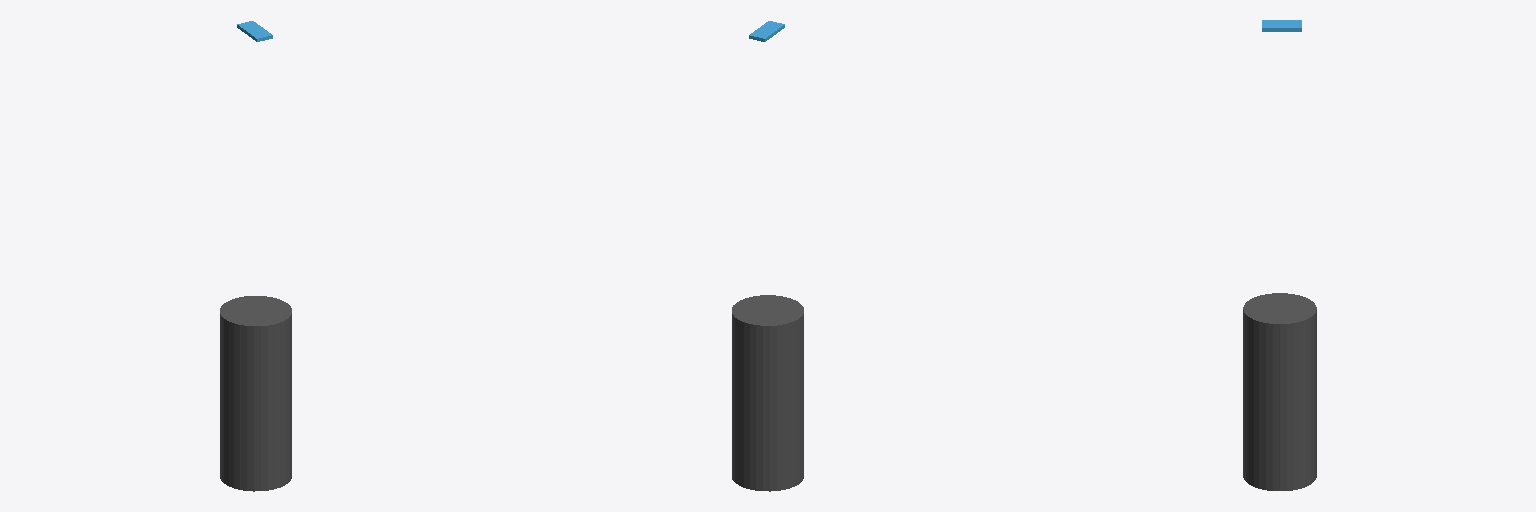
robot.urdf — lwa4p:
<?xml version="1.0" ?>
<!-- =================================================================================== -->
<!-- |    This document was autogenerated by xacro from schunk_lwa4p.urdf.xacro        | -->
<!-- |    EDITING THIS FILE BY HAND IS NOT RECOMMENDED                                 | -->
<!-- =================================================================================== -->
<!--
<robot xmlns:sensor="http://playerstage.sourceforge.net/gazebo/xmlschema/#sensor"
       xmlns:controller="http://playerstage.sourceforge.net/gazebo/xmlschema/#controller"
       xmlns:interface="http://playerstage.sourceforge.net/gazebo/xmlschema/#interface"
       xmlns:xacro="http://playerstage.sourceforge.net/gazebo/xmlschema/#interface"
       name="lwa4p" >
       -->
<robot name="lwa4p" xmlns:xacro="http://www.ros.org/wiki/xacro">
  <!-- common stuff -->
  <!-- see https://secure.wikimedia.org/wikipedia/en/wiki/List_of_moment_of_inertia_tensors -->
  <material name="Schunk/LightGrey">
    <color rgba="0.7 0.7 0.7 1.0"/>
  </material>
  <material name="Schunk/DarkGrey">
    <color rgba="0.4 0.4 0.4 1.0"/>
  </material>
  <material name="Schunk/Black">
    <color rgba="0.0 0.0 0.0 1.0"/>
  </material>
  <material name="Schunk/DarkGolden">
    <color rgba="0.4 0.4 0.3 1.0"/>
  </material>
  <material name="Schunk/Blue">
    <color rgba="0.0 0.0 0.8 1.0"/>
  </material>
  <!--include filename="$(find cob_description)/gazebo/gazebo.urdf.xacro" /-->
  <!-- calibration -->
  <!-- arm reference positions -->
  <!-- Size of square 'camera' box -->
  <!-- schunk lwa4p -->
  <gazebo>
    <plugin filename="libgazebo_ros_control.so" name="gazebo_ros_control">
      <robotNamespace>/lwa4p_blue</robotNamespace>
      <robotSimType>gazebo_ros_control/DefaultRobotHWSim</robotSimType>
    </plugin>
  </gazebo>
  <!-- foot for arm -->
  <link name="base_link">
    <visual>
      <origin rpy="0 0 0" xyz="0 0 0.25"/>
      <geometry>
        <cylinder length="0.5" radius="0.1"/>
      </geometry>
      <material name="Schunk/DarkGrey"/>
    </visual>
    <collision>
      <origin rpy="0 0 0" xyz="0 0 0.25"/>
      <geometry>
        <cylinder length="0.5" radius="0.1"/>
      </geometry>
    </collision>
    <inertial>
      <origin rpy="0 0 0" xyz="0 0 0.25"/>
      <mass value="1000.0"/>
      <inertia ixx="100.0" ixy="0" ixz="0" iyy="100.0" iyz="0" izz="100.0"/>
    </inertial>
  </link>
  <!-- arm -->
  <!-- joint between base_link and lwa4p_extended_connector_link -->
  <joint name="arm_podest_joint" type="fixed">
    <origin rpy="0 0 0" xyz="0 0 0.5"/>
    <parent link="base_link"/>
    <child link="arm_podest_link"/>
  </joint>

  <link name="arm_podest_link">
    <inertial>
      <mass value="0.01"/>
      <origin xyz="0 0 0"/>
      <inertia ixx="0.001" ixy="0.0" ixz="0.0" iyy="0.001" iyz="0.0" izz="0.001"/>
    </inertial>
    <visual>
      <origin rpy="0 3.14159265359 0" xyz="0 0 0"/>
      <geometry>
        <mesh filename="package://schunk/meshes/arm_base_link.stl"/>
      </geometry>
      <material name="Schunk/DarkGrey"/>
    </visual>
    <collision>
      <origin rpy="0 3.14159265359 0" xyz="0 0 0"/>
      <geometry>
        <mesh filename="package://schunk/meshes/arm_base_link.stl"/>
      </geometry>
    </collision>
  </link>

  <joint name="arm_base_joint" type="fixed">
    <origin rpy="0 0 0" xyz="0 0 0.10"/>
    <parent link="arm_podest_link"/>
    <child link="arm_base_link"/>
  </joint>

  <link name="arm_base_link">
    <inertial>
      <mass value="0.01"/>
      <origin xyz="0 0 0"/>
      <inertia ixx="0.001" ixy="0.0" ixz="0.0" iyy="0.001" iyz="0.0" izz="0.001"/>
    </inertial>
  </link>
  <!-- joint between arm_0_link and arm_1_link -->
  <joint name="arm_1_joint" type="revolute">
    <origin rpy="0 0 0" xyz="0 0 0"/>
    <parent link="arm_base_link"/>
    <child link="arm_1_link"/>
    <axis xyz="0 0 1"/>
    <limit effort="370" lower="-2.947" upper="2.947" velocity="1.26"/>
    <!--safety_controller k_position="20" k_velocity="50" soft_lower_limit="${-6.28 + 0.01}" soft_upper_limit="${6.28 - 0.01}" /-->
  </joint>

  <link name="arm_1_link">
    <inertial>
      <mass value="0.01"/>
      <origin xyz="0 0 0"/>
      <inertia ixx="0.001" ixy="0.0" ixz="0.0" iyy="0.001" iyz="0.0" izz="0.001"/>
    </inertial>
    <inertial>
      <origin rpy="0 0 0" xyz="0 0 0"/>
      <mass value="0.29364"/>
      <inertia ixx="0.01" ixy="0" ixz="0" iyy="0.01" iyz="0" izz="0.01"/>
    </inertial>
    <visual>
      <origin rpy="0 0 0" xyz="0 0 0"/>
      <geometry>
        <mesh filename="package://schunk/meshes/arm_1_link.stl"/>
      </geometry>
      <material name="Schunk/Blue"/>
    </visual>
    <collision>
      <origin rpy="0 0 0" xyz="0 0 0"/>
      <geometry>
        <mesh filename="package://schunk/meshes/arm_1_link.stl"/>
      </geometry>
    </collision>
  </link>
  <!-- joint between arm_1_link and arm_2_link -->
  <joint name="arm_2_joint" type="revolute">
    <origin rpy="1.5708 0 0" xyz="0 0 0"/>
    <parent link="arm_1_link"/>
    <child link="arm_2_link"/>
    <axis xyz="0 0 1"/>
    <limit effort="370" lower="-2.947" upper="2.947" velocity="1.26"/>
    <!--safety_controller k_position="20" k_velocity="50" soft_lower_limit="${-2.09 + 0.01}" soft_upper_limit="${2.09 - 0.01}" /-->
  </joint>

  <link name="arm_2_link">
    <inertial>
      <mass value="0.01"/>
      <origin xyz="0 0 0"/>
      <inertia ixx="0.001" ixy="0.0" ixz="0.0" iyy="0.001" iyz="0.0" izz="0.001"/>
    </inertial>
    <inertial>
      <origin rpy="0 0 0" xyz="0 0 0"/>
      <mass value="1.68311"/>
      <inertia ixx="0.03" ixy="0" ixz="0" iyy="0.03" iyz="0" izz="0.03"/>
    </inertial>
    <visual>
      <origin rpy="0 0 0" xyz="0 0 0"/>
      <geometry>
        <mesh filename="package://schunk/meshes/arm_2_link.stl"/>
      </geometry>
      <material name="Schunk/LightGrey"/>
    </visual>
    <collision>
      <origin rpy="0 0 0" xyz="0 0 0"/>
      <geometry>
        <mesh filename="package://schunk/meshes/arm_2_link.stl"/>
      </geometry>
    </collision>
  </link>
  <!-- joint between arm_2_link and arm_3_link -->
  <joint name="arm_3_joint" type="revolute">
    <origin rpy="0 3.14159 0" xyz="0 0.350 0"/>
    <parent link="arm_2_link"/>
    <child link="arm_3_link"/>
    <axis xyz="0 0 1"/>
    <limit effort="176" lower="-2.694" upper="2.694" velocity="1.26"/>
    <!--safety_controller k_position="20" k_velocity="25" soft_lower_limit="${-6.28 + 0.01}" soft_upper_limit="${6.28 - 0.01}" /-->
  </joint>

  <link name="arm_3_link">
    <inertial>
      <mass value="0.01"/>
      <origin xyz="0 0 0"/>
      <inertia ixx="0.001" ixy="0.0" ixz="0.0" iyy="0.001" iyz="0.0" izz="0.001"/>
    </inertial>
    <inertial>
      <origin rpy="0 0 0" xyz="0 0 0"/>
      <mass value="2.1"/>
      <inertia ixx="0.03" ixy="0" ixz="0" iyy="0.03" iyz="0" izz="0.03"/>
    </inertial>
    <visual>
      <origin rpy="0 0 0" xyz="0 0 0"/>
      <geometry>
        <mesh filename="package://schunk/meshes/arm_3_link.stl"/>
        <material name="Schunk/Blue"/>
      </geometry>
    </visual>
    <collision>
      <origin rpy="0 0 0" xyz="0 0 0"/>
      <geometry>
        <mesh filename="package://schunk/meshes/arm_3_link.stl"/>
      </geometry>
    </collision>
  </link>
  <!-- joint between arm_3_link and arm_4_link -->
  <joint name="arm_4_joint" type="revolute">
    <origin rpy="-1.5708 3.14159 0" xyz="0 0 0"/>
    <parent link="arm_3_link"/>
    <child link="arm_4_link"/>
    <axis xyz="0 0 1"/>
    <limit effort="176" lower="-2.947" upper="2.947" velocity="1.26"/>
    <!--safety_controller k_position="20" k_velocity="25" soft_lower_limit="${-2.09 + 0.01}" soft_upper_limit="${2.09 - 0.01}" /-->
  </joint>

  <link name="arm_4_link">
    <inertial>
      <mass value="0.01"/>
      <origin xyz="0 0 0"/>
      <inertia ixx="0.001" ixy="0.0" ixz="0.0" iyy="0.001" iyz="0.0" izz="0.001"/>
    </inertial>
    <inertial>
      <origin rpy="0 0 0" xyz="0 0 0"/>
      <mass value="1.68311"/>
      <inertia ixx="0.03" ixy="0" ixz="0" iyy="0.03" iyz="0" izz="0.03"/>
    </inertial>
    <visual>
      <origin rpy="0 0 0" xyz="0 0 0"/>
      <geometry>
        <mesh filename="package://schunk/meshes/arm_4_link.stl"/>
      </geometry>
      <material name="Schunk/LightGrey"/>
    </visual>
    <collision>
      <origin rpy="0 0 0" xyz="0 0 0"/>
      <geometry>
        <mesh filename="package://schunk/meshes/arm_4_link.stl"/>
      </geometry>
    </collision>
  </link>

  <!-- joint between arm_4_link and arm_5_link -->
  <joint name="arm_5_joint" type="revolute">
    <origin rpy="1.5708 0 3.14159" xyz="0 0.005263 0.305"/>
    <parent link="arm_4_link"/>
    <child link="arm_5_link"/>
    <axis xyz="0 0 1"/>
    <limit effort="41.6" lower="-2.947" upper="2.947" velocity="1.26"/>
    <!--safety_controller k_position="20" k_velocity="25" soft_lower_limit="${-6.28 + 0.01}" soft_upper_limit="${6.28 - 0.01}" /-->
  </joint>

  <link name="arm_5_link">
    <inertial>
      <mass value="0.01"/>
      <origin xyz="0 0 0"/>
      <inertia ixx="0.001" ixy="0.0" ixz="0.0" iyy="0.001" iyz="0.0" izz="0.001"/>
    </inertial>
    <inertial>
      <origin rpy="0 0 0" xyz="0 0 0"/>
      <mass value="0.807"/>
      <inertia ixx="0.03" ixy="0" ixz="0" iyy="0.03" iyz="0" izz="0.03"/>
    </inertial>
    <visual>
      <origin rpy="0 0 0" xyz="0 0 0"/>
      <geometry>
        <mesh filename="package://schunk/meshes/arm_5_link.stl"/>
      </geometry>
      <material name="Schunk/Blue"/>
    </visual>
    <collision>
      <origin rpy="0 0 0" xyz="0 0 0"/>
      <geometry>
        <mesh filename="package://schunk/meshes/arm_5_link.stl"/>
      </geometry>
    </collision>
  </link>

  <!-- joint between arm_5_link and arm_6_link -->
  <joint name="arm_6_joint" type="revolute">
    <origin rpy="-1.5708 0 0" xyz="0 0 0"/>
    <parent link="arm_5_link"/>
    <child link="arm_6_link"/>
    <axis xyz="0 0 1"/>
    <limit effort="20.1" lower="-2.947" upper="2.947" velocity="1.26"/>
    <!--safety_controller k_position="20" k_velocity="25" soft_lower_limit="${-2.09 + 0.01}" soft_upper_limit="${2.09 - 0.01}" /-->
  </joint>

  <link name="arm_6_link">
    <inertial>
      <mass value="0.01"/>
      <origin xyz="0 0 0"/>
      <inertia ixx="0.001" ixy="0.0" ixz="0.0" iyy="0.001" iyz="0.0" izz="0.001"/>
    </inertial>
    <inertial>
      <origin rpy="0 0 0" xyz="0 0 0"/>
      <mass value="0.819"/>
      <inertia ixx="0.01" ixy="0" ixz="0" iyy="0.01" iyz="0" izz="0.01"/>
    </inertial>
    <visual>
      <origin rpy="0 0 0" xyz="0 0 0"/>
      <geometry>
        <mesh filename="package://schunk/meshes/arm_6_link.stl"/>
      </geometry>
      <material name="Schunk/LightGrey"/>
    </visual>
    <collision>
      <origin rpy="0 0 0" xyz="0 0 0"/>
      <geometry>
        <mesh filename="package://schunk/meshes/arm_6_link.stl"/>
      </geometry>
    </collision>
  </link>

  <!-- joint between arm_6_link and camera -->
  <joint name="camera_joint" type="fixed">
    <axis xyz="0 0 0"/>
    <origin rpy="0 -1.57079632679 3.14159265359" xyz="0 0 0.09"/>
    <parent link="arm_6_link"/>
    <child link="camera_link"/>
  </joint>

  <!-- Camera -->
  <link name="camera_link">
    <!-- <xacro:default_inertial/> -->
    <collision>
      <origin rpy="0 0 0" xyz="0 0 0"/>
      <geometry>
        <box size="0.01 0.11 0.05"/>
      </geometry>
    </collision>
    <visual>
      <origin rpy="0 0 0" xyz="0 0 0"/>
      <geometry>
        <box size="0.01 0.11 0.05"/>
      </geometry>
      <material name="Gazebo/Black"/>
    </visual>
    <inertial>
      <mass value="1e-5"/>
      <origin rpy="0 0 0" xyz="0 0 0"/>
      <inertia ixx="1e-6" ixy="0" ixz="0" iyy="1e-6" iyz="0" izz="1e-6"/>
    </inertial>
  </link>
  <!-- generate an optical frame http://www.ros.org/reps/rep-0103.html#suffix-frames
        so that ros and opencv can operate on the camera frame correctly -->
  <!-- these values have to be these values otherwise the gazebo camera image
          won't be aligned properly with the frame it is supposedly originating from -->
  <joint name="camera_optical_joint" type="fixed">
    <origin rpy="0 0 0" xyz="0 0 0"/>
    <parent link="camera_link"/>
    <child link="camera_link_optical"/>
  </joint>

  <link name="camera_link_optical">
    </link>

  <!-- extensions -->
  <gazebo reference="arm_0_link">
    <gravity>true</gravity>
    <self_collide>false</self_collide>
    <material value="Schunk/LightGrey"/>
  </gazebo>
  <gazebo reference="arm_1_link">
    <gravity>true</gravity>
    <self_collide>false</self_collide>
    <material value="Schunk/Blue"/>
  </gazebo>
  <gazebo reference="arm_2_link">
    <gravity>true</gravity>
    <self_collide>false</self_collide>
    <material value="Schunk/LightGrey"/>
  </gazebo>
  <gazebo reference="arm_3_link">
    <gravity>true</gravity>
    <self_collide>false</self_collide>
    <material value="Schunk/Blue"/>
  </gazebo>
  <gazebo reference="arm_4_link">
    <gravity>true</gravity>
    <self_collide>false</self_collide>
    <material value="Schunk/LightGrey"/>
  </gazebo>
  <gazebo reference="arm_5_link">
    <gravity>true</gravity>
    <self_collide>false</self_collide>
    <material value="Schunk/Blue"/>
  </gazebo>
  <gazebo reference="arm_6_link">
    <gravity>true</gravity>
    <self_collide>false</self_collide>
    <material value="Schunk/LightGrey"/>
  </gazebo>
  <!-- camera_link -->
  <gazebo reference="camera_link">
    <mu1>0.2</mu1>
    <mu2>0.2</mu2>
    <material value="Schunk/Black"/>
  </gazebo>
  <!-- camera -->
  <gazebo reference="camera_link">
    <sensor name="camera1" type="camera">
      <update_rate>30.0</update_rate>
      <camera name="head">
        <horizontal_fov>1.0471975512</horizontal_fov>
        <image>
          <width>800</width>
          <height>800</height>
          <format>R8G8B8</format>
        </image>
        <clip>
          <near>0.02</near>
          <far>100</far>
        </clip>
        <noise>
          <type>gaussian</type>
          <!-- Noise is sampled independently per pixel on each frame.
                That pixel's noise value is added to each of its color
                channels, which at that point lie in the range [0,1]. -->
          <mean>0.0</mean>
          <stddev>0.007</stddev>
        </noise>
      </camera>
      <plugin filename="libgazebo_ros_camera.so" name="camera_controller">
        <alwaysOn>true</alwaysOn>
        <updateRate>0.0</updateRate>
        <cameraName>schunk_lwa4p/camera1</cameraName>
        <imageTopicName>image_raw</imageTopicName>
        <cameraInfoTopicName>camera_info</cameraInfoTopicName>
        <frameName>camera_link_optical</frameName>
        <hackBaseline>0.07</hackBaseline>
        <distortionK1>0.0</distortionK1>
        <distortionK2>0.0</distortionK2>
        <distortionK3>0.0</distortionK3>
        <distortionT1>0.0</distortionT1>
        <distortionT2>0.0</distortionT2>
      </plugin>
    </sensor>
  </gazebo>
  
  <transmission name="arm_1_trans">
    <type>transmission_interface/SimpleTransmission</type>
    <joint name="arm_1_joint">
      <hardwareInterface>PositionJointInterface</hardwareInterface>
      <hardwareInterface>VelocityJointInterface</hardwareInterface>
    </joint>
    <actuator name="arm_1_motor">
      <mechanicalReduction>1</mechanicalReduction>
    </actuator>
  </transmission>
  <transmission name="arm_2_trans">
    <type>transmission_interface/SimpleTransmission</type>
    <joint name="arm_2_joint">
      <hardwareInterface>PositionJointInterface</hardwareInterface>
      <hardwareInterface>VelocityJointInterface</hardwareInterface>
    </joint>
    <actuator name="arm_2_motor">
      <mechanicalReduction>1</mechanicalReduction>
    </actuator>
  </transmission>
  <transmission name="arm_3_trans">
    <type>transmission_interface/SimpleTransmission</type>
    <joint name="arm_3_joint">
      <hardwareInterface>PositionJointInterface</hardwareInterface>
      <hardwareInterface>VelocityJointInterface</hardwareInterface>
    </joint>
    <actuator name="arm_3_motor">
      <mechanicalReduction>1</mechanicalReduction>
    </actuator>
  </transmission>
  <transmission name="arm_4_trans">
    <type>transmission_interface/SimpleTransmission</type>
    <joint name="arm_4_joint">
      <hardwareInterface>PositionJointInterface</hardwareInterface>
      <hardwareInterface>VelocityJointInterface</hardwareInterface>
    </joint>
    <actuator name="arm_4_motor">
      <mechanicalReduction>1</mechanicalReduction>
    </actuator>
  </transmission>
  <transmission name="arm_5_trans">
    <type>transmission_interface/SimpleTransmission</type>
    <joint name="arm_5_joint">
      <hardwareInterface>PositionJointInterface</hardwareInterface>
      <hardwareInterface>VelocityJointInterface</hardwareInterface>
    </joint>
    <actuator name="arm_5_motor">
      <mechanicalReduction>1</mechanicalReduction>
    </actuator>
  </transmission>
  <transmission name="arm_6_trans">
    <type>transmission_interface/SimpleTransmission</type>
    <joint name="arm_6_joint">
      <!--hardwareInterface>EffortJointInterface</hardwareInterface-->
      <hardwareInterface>PositionJointInterface</hardwareInterface>
      <hardwareInterface>VelocityJointInterface</hardwareInterface>
    </joint>
    <actuator name="arm_6_motor">
      <!--hardwareInterface>EffortActuatorInterface</hardwareInterface-->
      <mechanicalReduction>1</mechanicalReduction>
    </actuator>
  </transmission>
</robot>

--- What the picture shows (computed from the rendered views, not written in the file) ---
The picture shows the robot from 3 angles, left to right: view 1: azimuth 30°, elevation 25°; view 2: azimuth 150°, elevation 25°; view 3: azimuth 270°, elevation 25°; orthographic projection.
Robot: lwa4p — 11 links, 10 joints (6 revolute, 4 fixed); root link base_link; default pose: every joint at zero.
Links seen in each view (by area): view 1: base_link; view 2: base_link; view 3: base_link.
Link boxes in pixels (x1=…): base_link: x1=220, y1=296, x2=291, y2=491; base_link: x1=732, y1=295, x2=803, y2=491; base_link: x1=1243, y1=293, x2=1316, y2=490.
Bounding box of the posed robot: 0.2 × 0.2 × 1.35 m (x, y, z).
0 mesh visuals loaded from 7 distinct referenced files (none loaded); not drawn: 7 (reference not matched to a file when rendering).